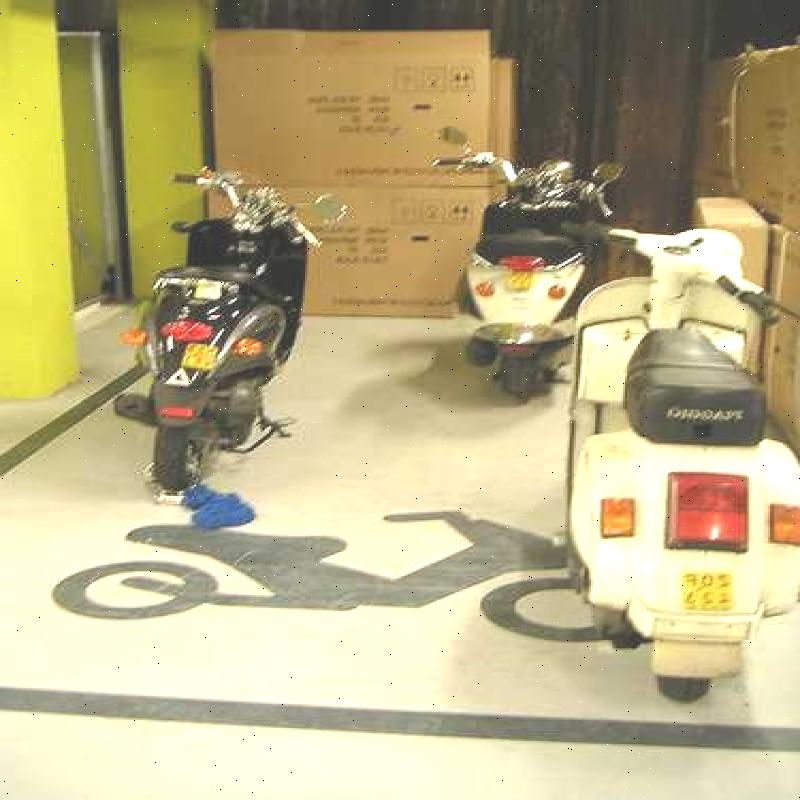bike: (91, 164, 344, 490), (431, 137, 624, 386)
